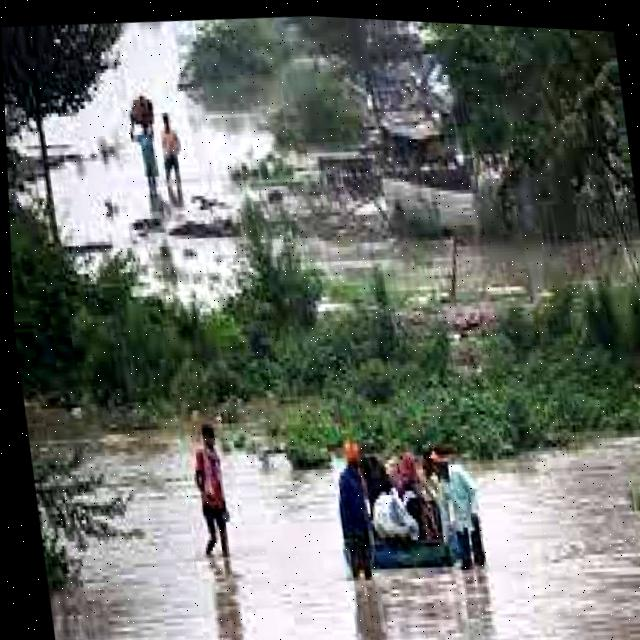civilian: (175, 415, 246, 571), (321, 437, 381, 588), (430, 445, 494, 574), (123, 106, 167, 197), (153, 105, 192, 193), (375, 484, 424, 545), (383, 437, 431, 498)
